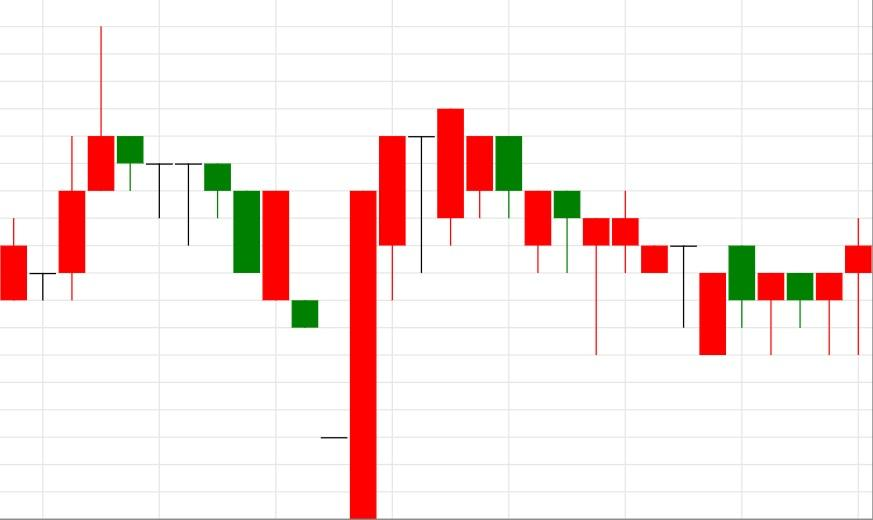bearish_engulfing_fall: (349, 108, 523, 519)
bullish_engulfing_rise: (87, 26, 290, 301)
